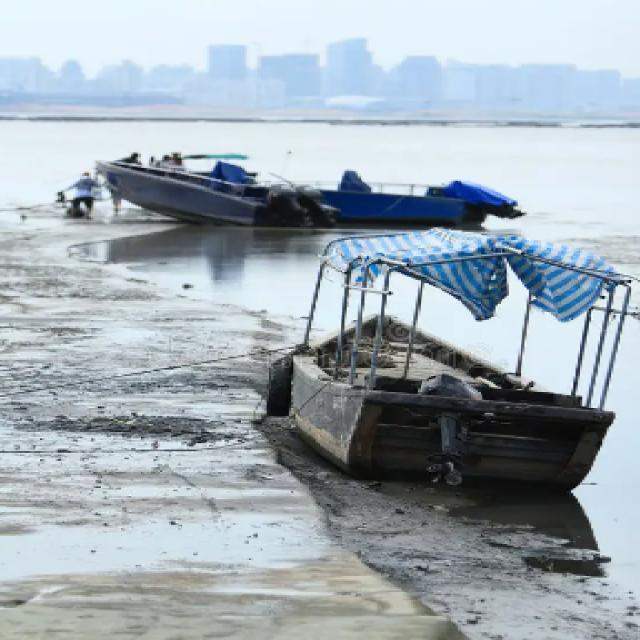fishing boat: (274, 221, 638, 488), (89, 135, 498, 229)
